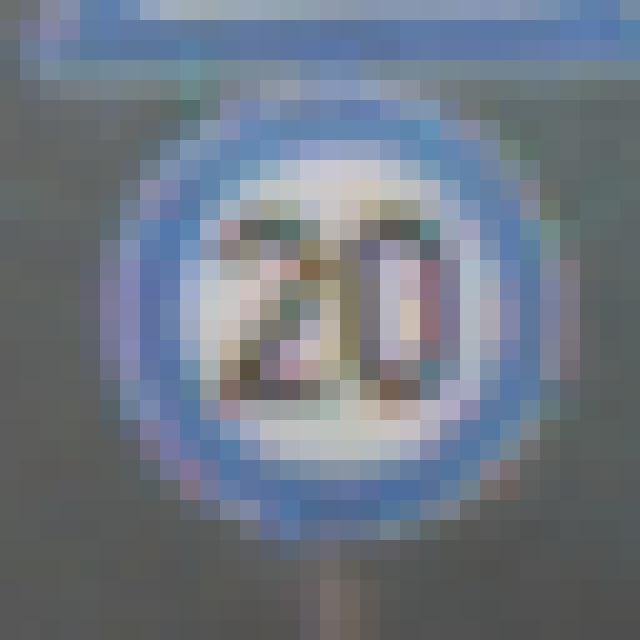SPEED LIMIT 20: (86, 101, 600, 554)
